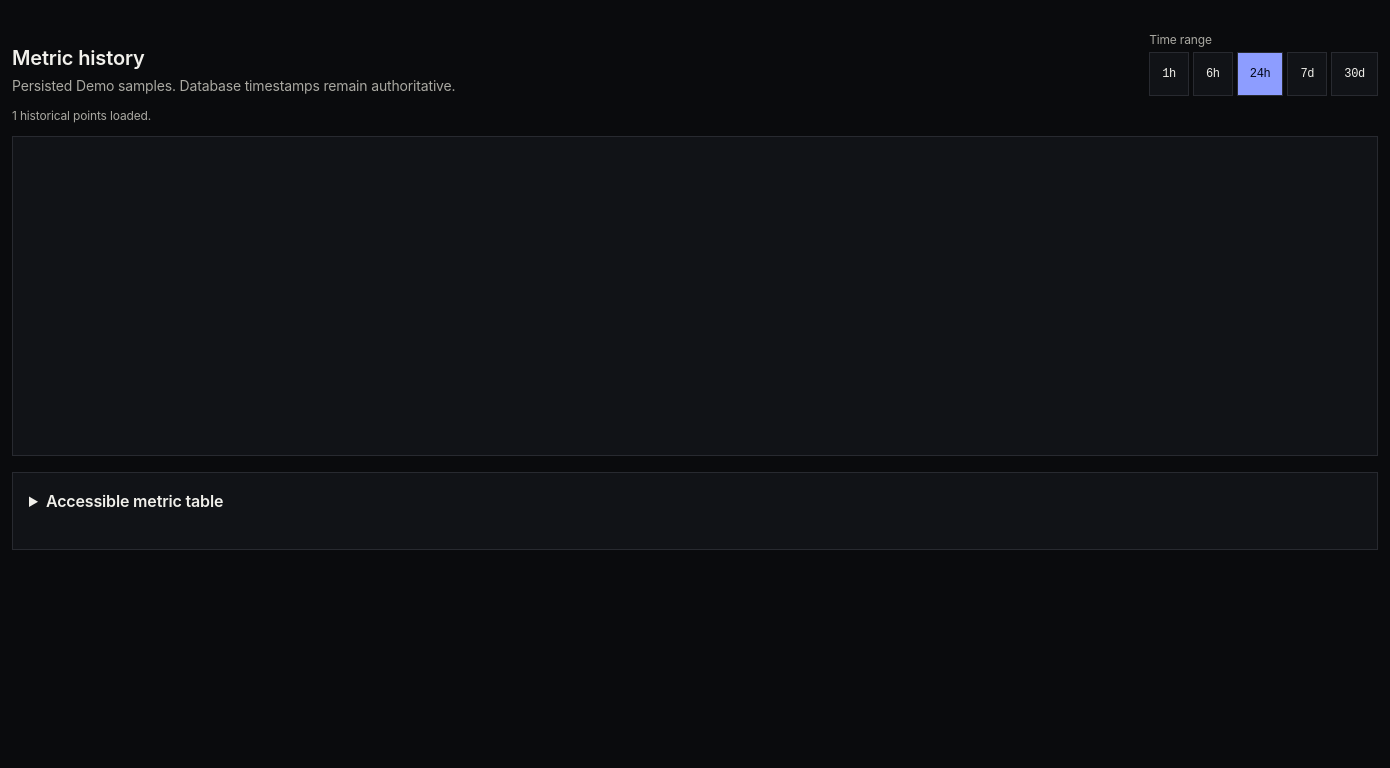
DeviceMetricHistory › loads the default range and exposes keyboard range controls and table parity
Expected: the text "1 historical points loaded." is shown, [12,108,151,123]
Step 1. Click the button "7d" → click(1307, 74), box [1288,52,1327,96]
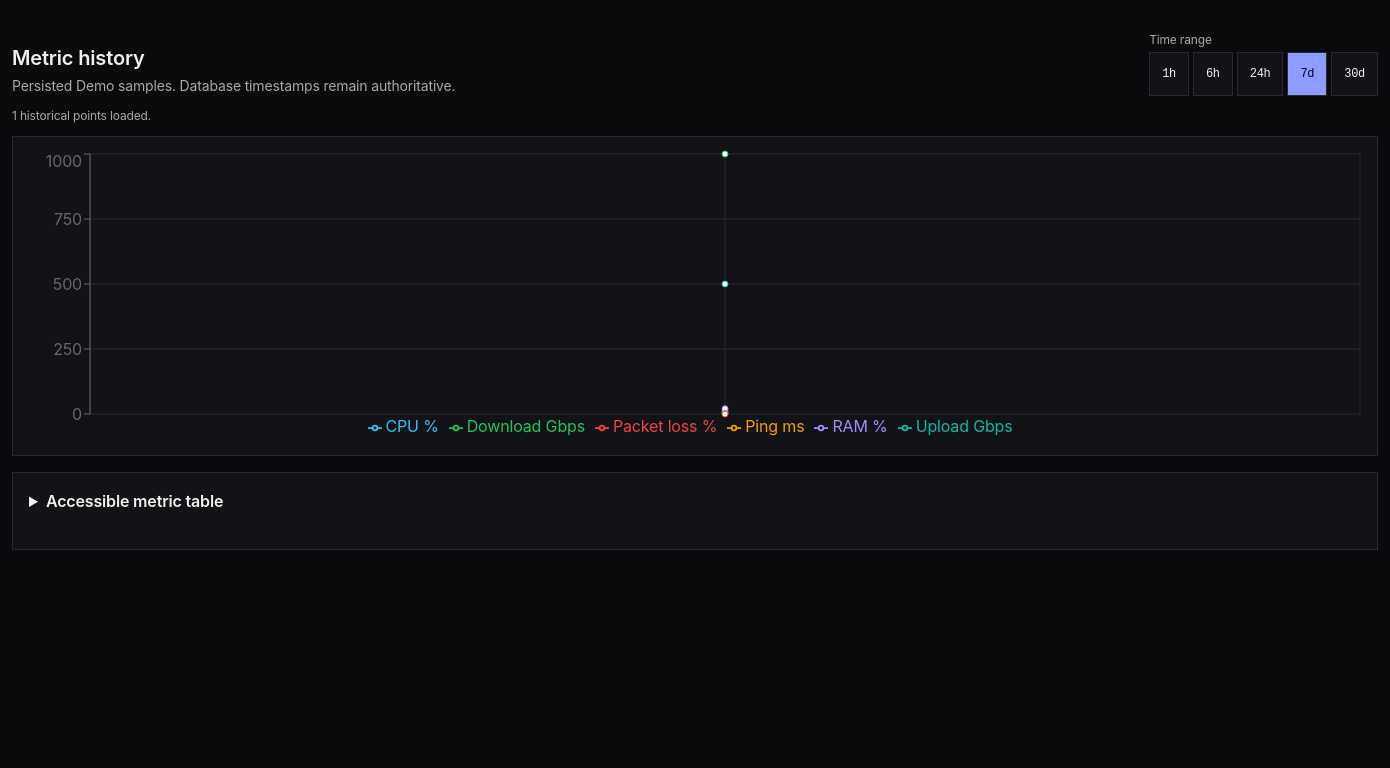
Step 2. Click the heading "Accessible metric table" → click(135, 501), box [46,491,223,511]
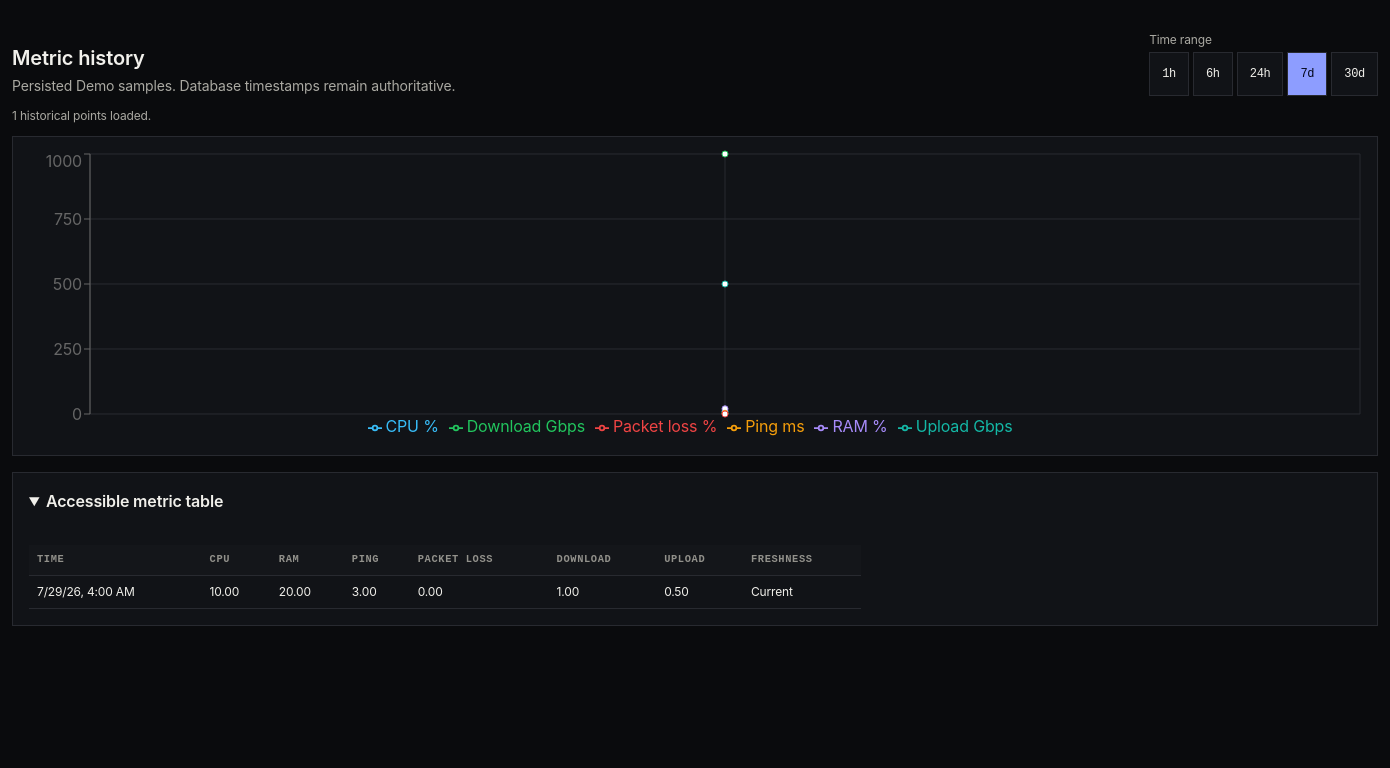
Expected: the table is shown, [29,545,861,609]
Expected: the text "1.00" is shown, [548,575,656,608]
